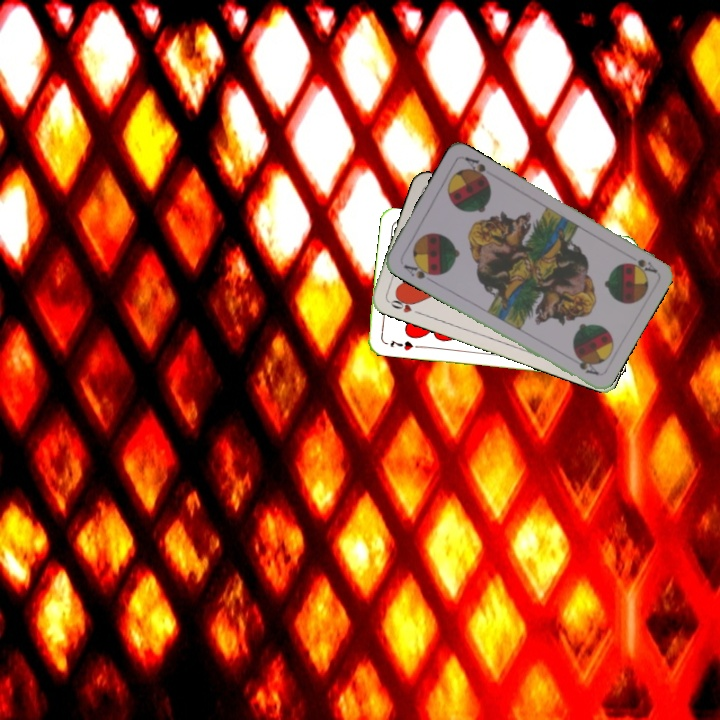H7: (386, 335, 416, 353)
HO: (385, 292, 424, 317)
SA: (399, 259, 438, 282), (623, 255, 659, 276)
